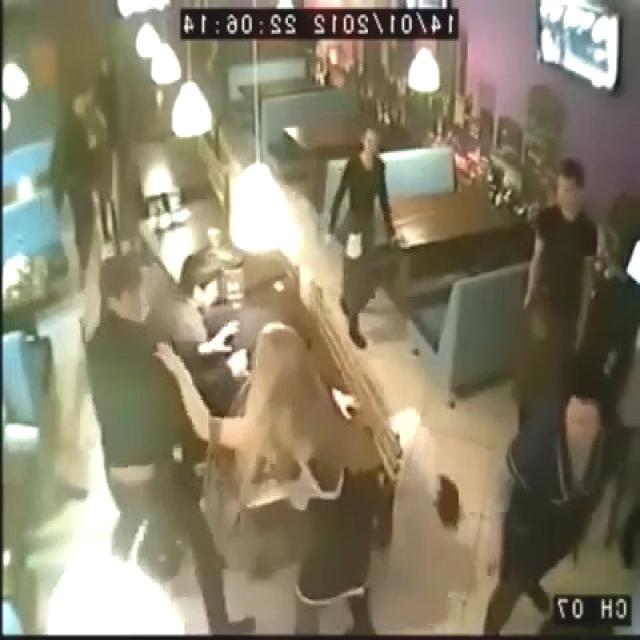fight: (85, 214, 284, 492)
